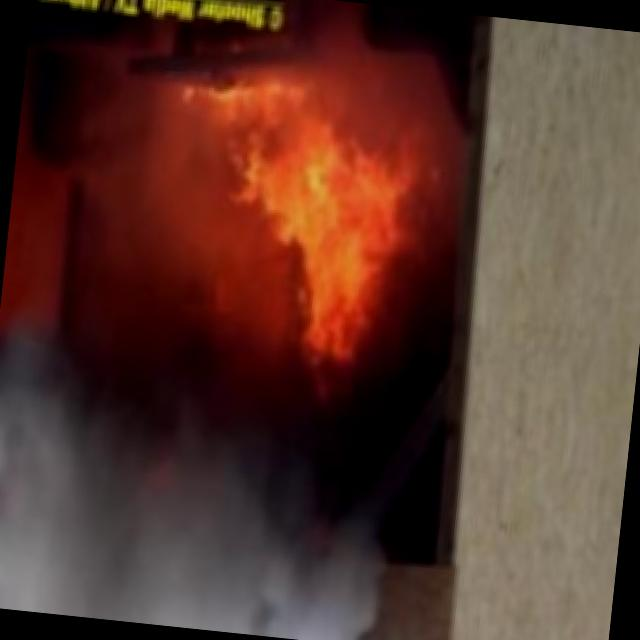fire: (164, 67, 434, 390)
